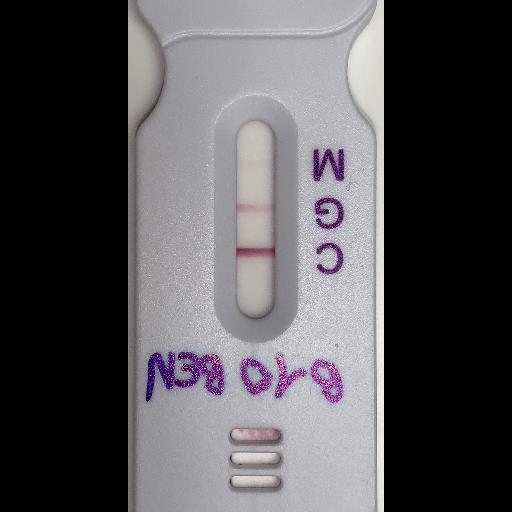Pos: (127, 0, 379, 511)
